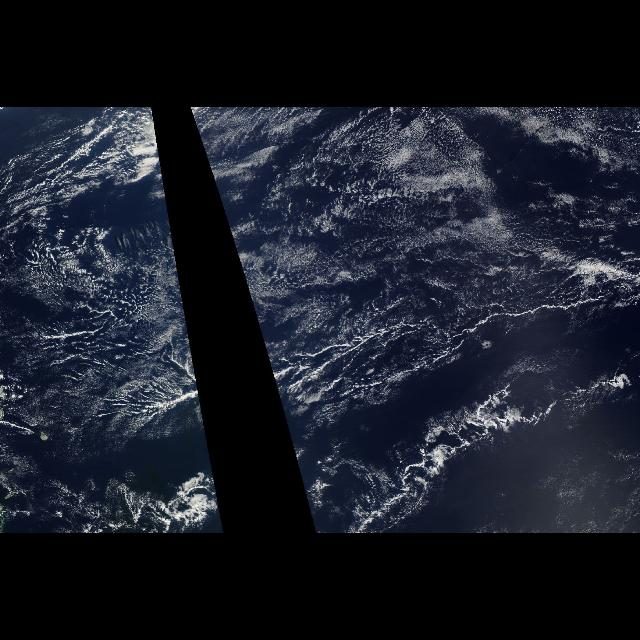Sugar: (190, 109, 638, 347), (26, 353, 176, 459)
